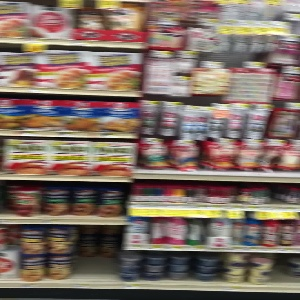void: (76, 219, 120, 285)
